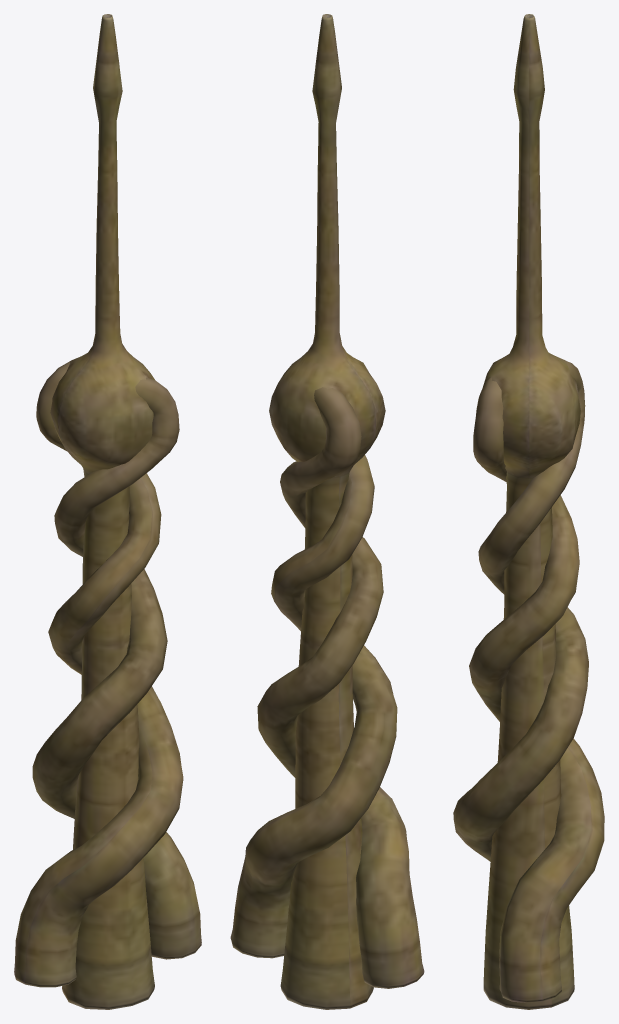
The model's file is weapon-wp_a_4015.glb.
3 renders of one model, left to right at view 1: azimuth 30°, elevation 25°; view 2: azimuth 150°, elevation 25°; view 3: azimuth 270°, elevation 25°, orthographic.
Visible parts, largest first — view 1: wp_a_4015_mesh; view 2: wp_a_4015_mesh; view 3: wp_a_4015_mesh.
Boxes of the visible parts, left/top/right/bottom form: wp_a_4015_mesh: left=14, top=14, right=201, bottom=1009; wp_a_4015_mesh: left=230, top=14, right=424, bottom=1009; wp_a_4015_mesh: left=453, top=14, right=604, bottom=1009.
Bounding box in the file's own units: 0.3564 × 1.83 × 0.2566.
1 material, 1 textured.
